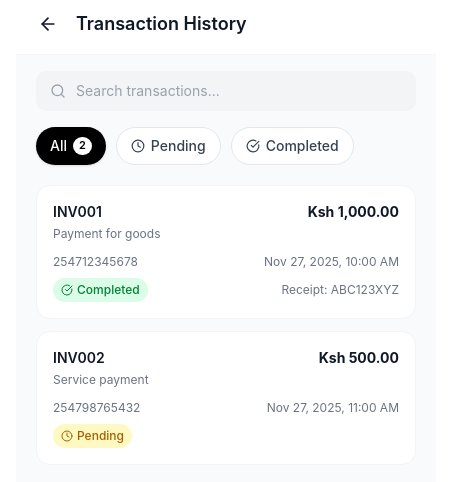
Test: TransactionHistoryPage › shows empty state when search has no results
Step 1. Type "NonExistentTransaction" into the field with placeholder "Search transactions..." → (226, 91), box [36, 71, 416, 111]
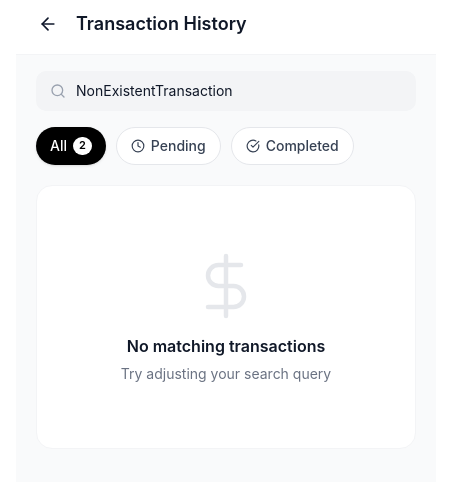
Result: the heading "No matching transactions" is shown at [127, 334, 325, 358]
Result: the text "Try adjusting your search query" is shown at [121, 364, 331, 384]
